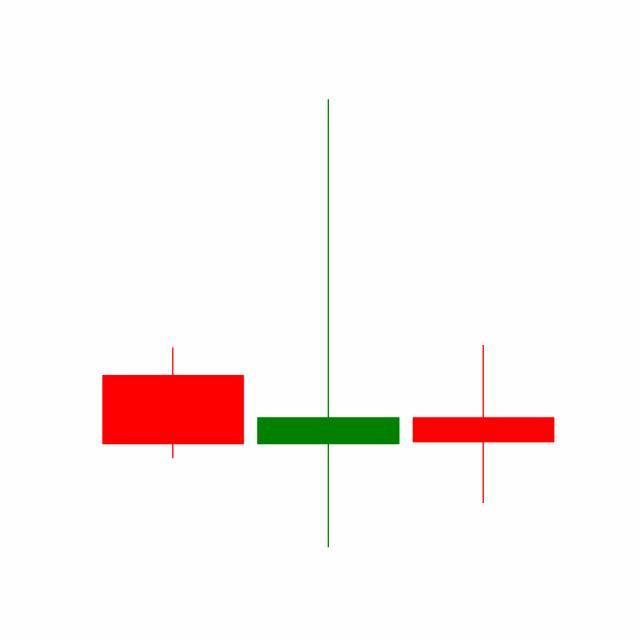Spinning Top: (406, 343, 562, 506)
